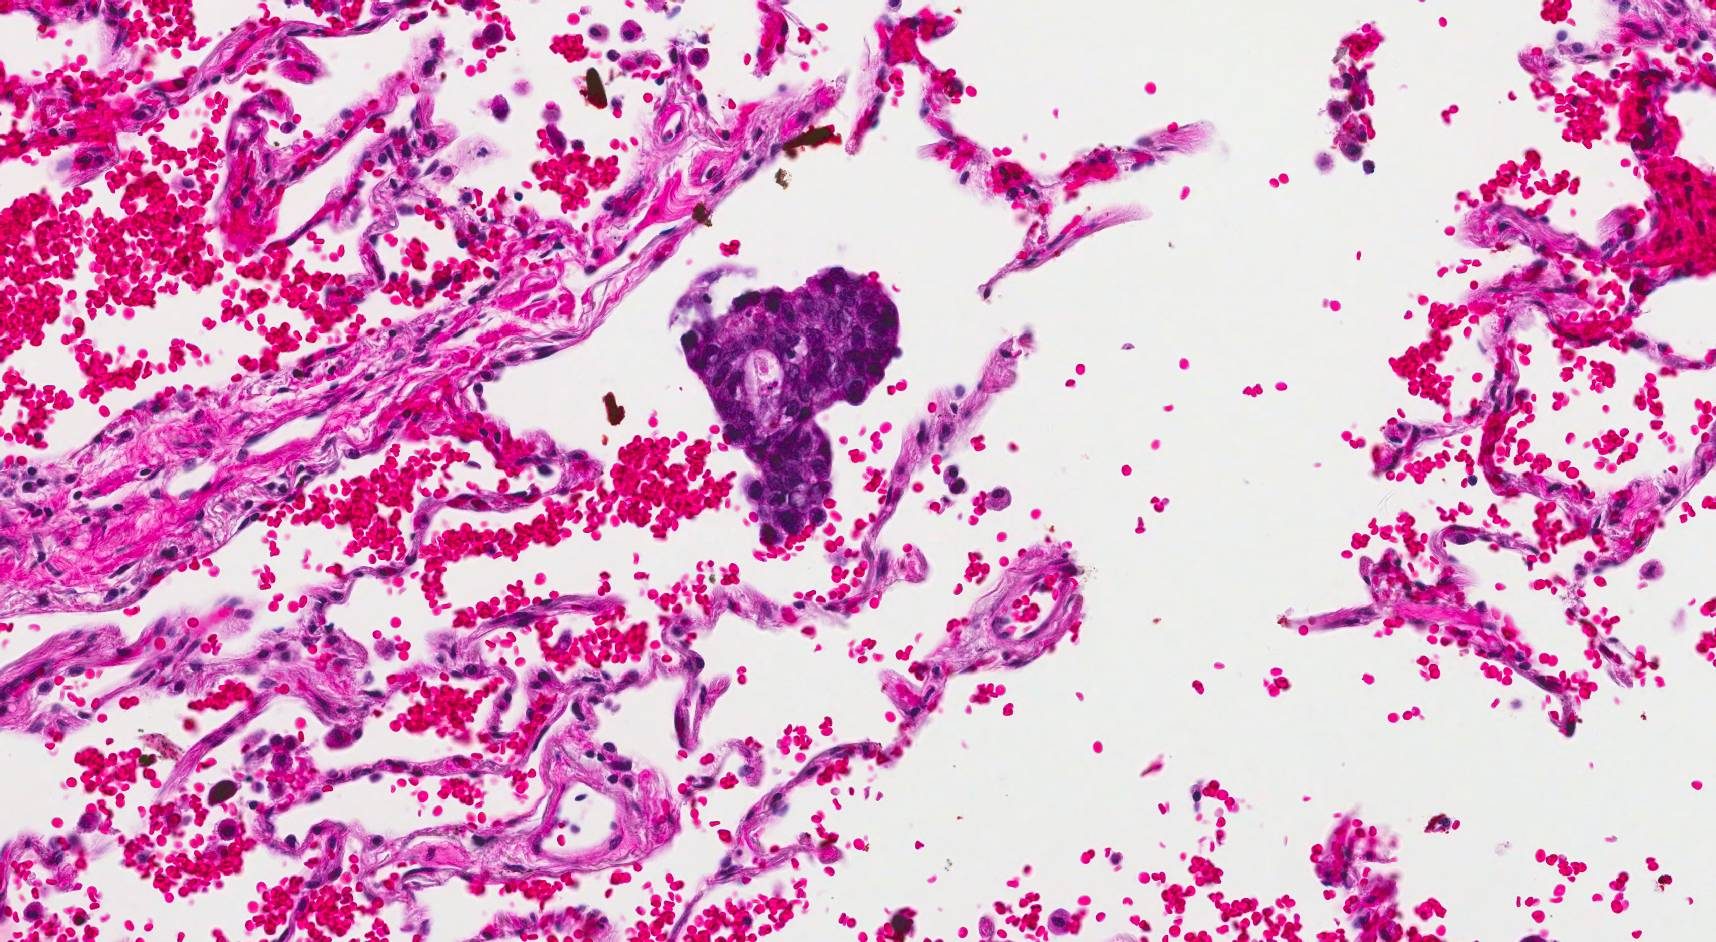stas: (680, 262, 902, 550)
